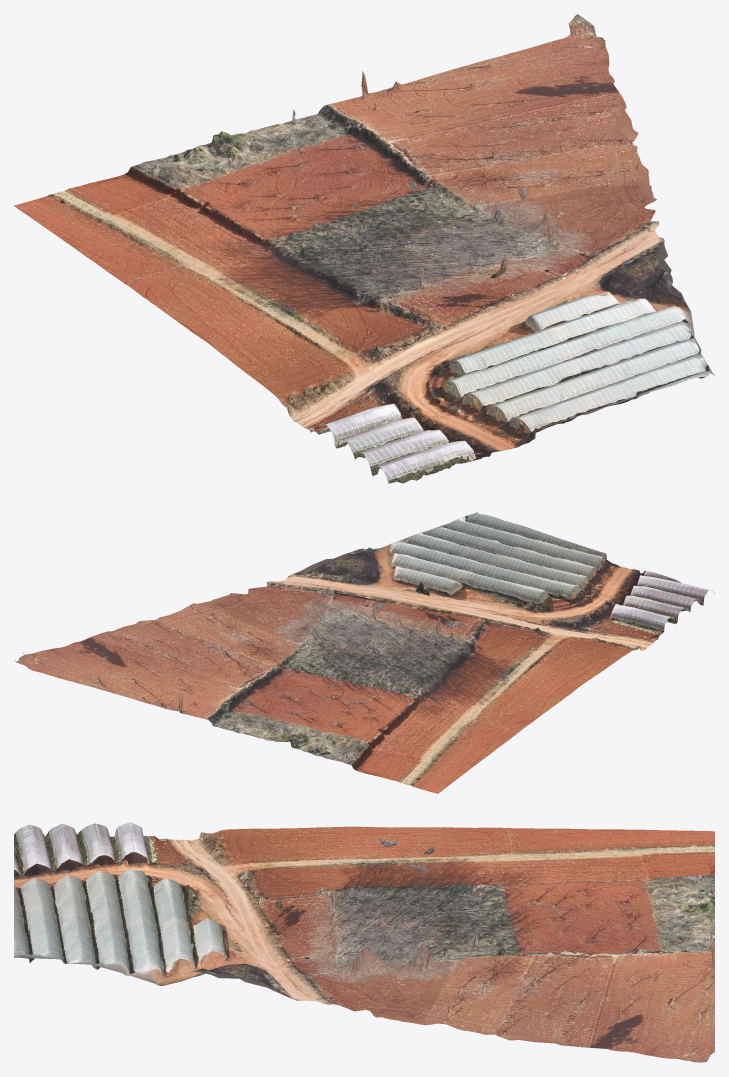
The model's file is BlockBB_L19_47.glb.
3 views of the same model, one above another, from view 1: azimuth 30°, elevation 25°; view 2: azimuth 150°, elevation 25°; view 3: azimuth 270°, elevation 25° (orthographic). The views are drawn at different scales.
Parts seen in each view (by area): view 1: rtc; view 2: rtc; view 3: rtc.
Part boxes in pixels (x1,y1,x2,y2): rtc: (14, 14, 714, 483); rtc: (14, 512, 714, 793); rtc: (14, 822, 714, 1062).
Bounding box in the file's own units: 102 × 15.4 × 114.
5 materials, 5 textured.
